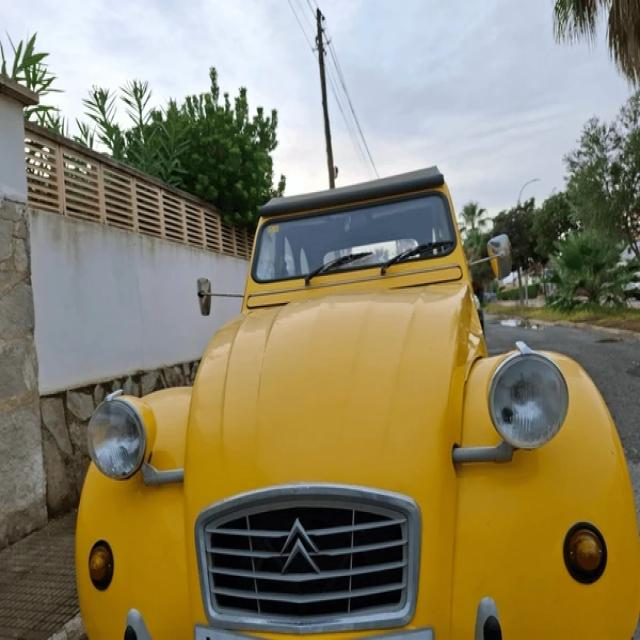citroen: (278, 517, 332, 586)
